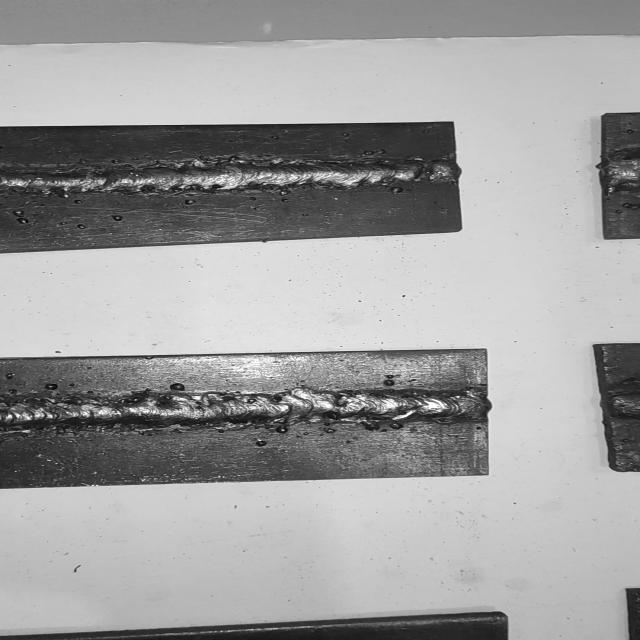Bad Weld: (0, 391, 481, 427), (2, 156, 456, 192)
Defect: (393, 147, 470, 194), (599, 150, 640, 194), (42, 380, 94, 406), (137, 378, 194, 400), (600, 390, 640, 419), (372, 370, 418, 395), (11, 202, 48, 226)
